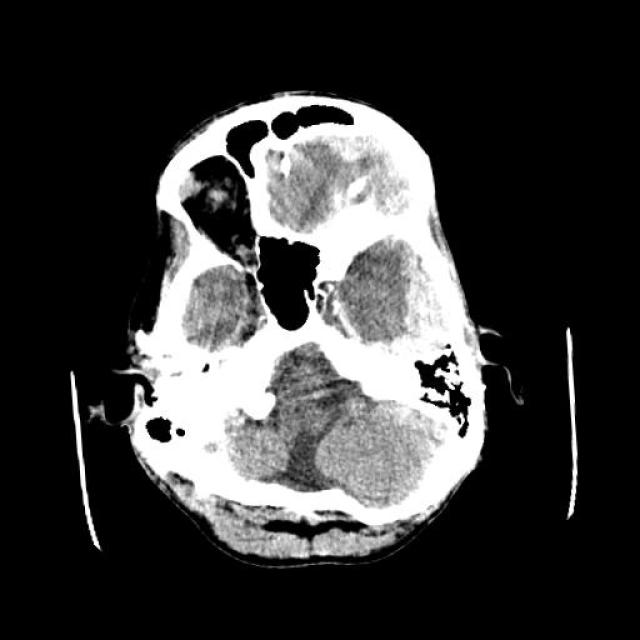Subdural: (386, 232, 502, 366)
